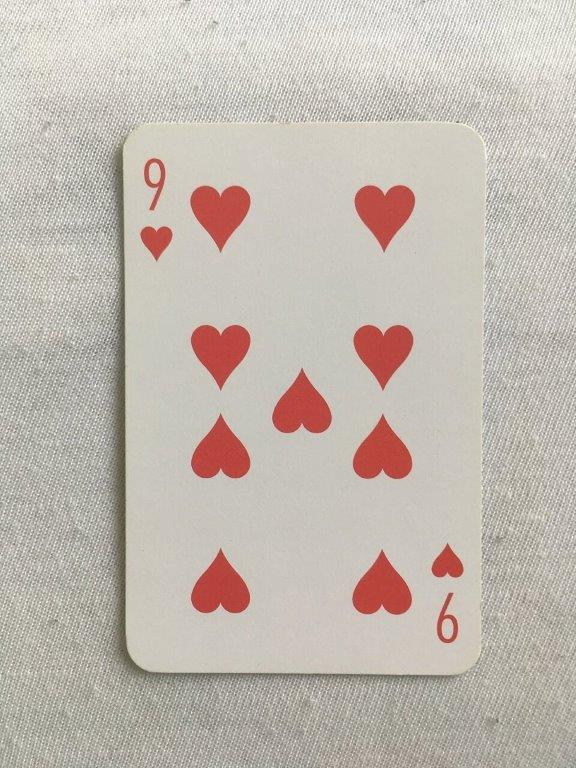9H: (118, 118, 491, 680)
